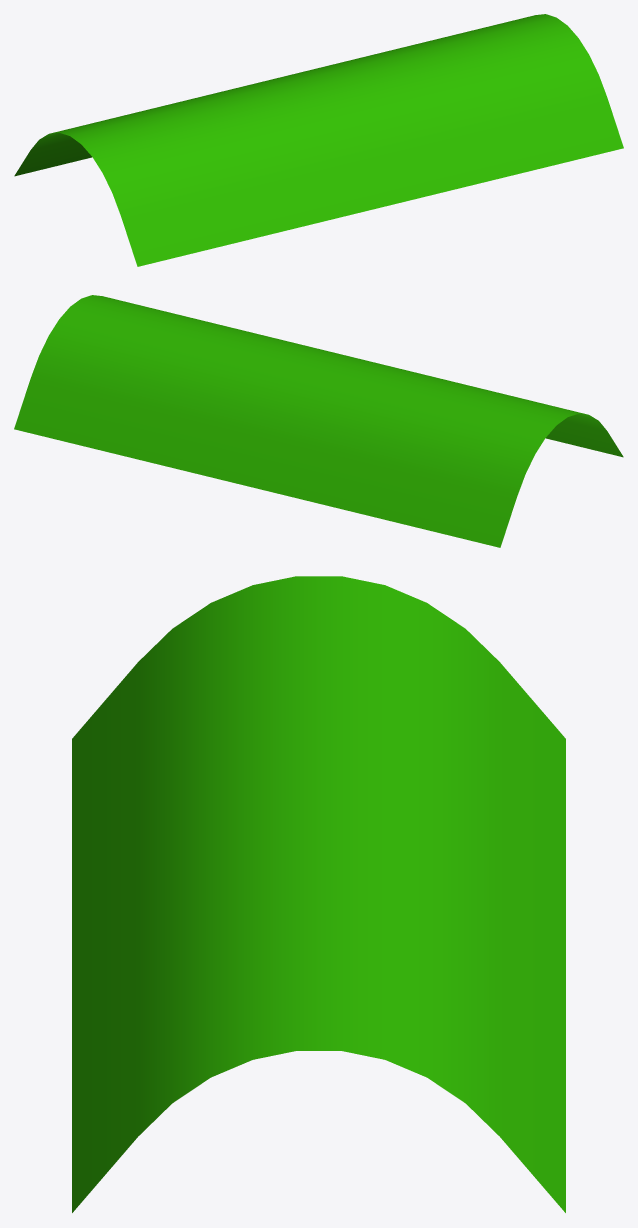
File: Hill_1.fbx
The picture shows the model from 3 angles, top to bottom: view 1: azimuth 30°, elevation 25°; view 2: azimuth 150°, elevation 25°; view 3: azimuth 270°, elevation 25°; orthographic projection. The views are drawn at different scales.
Parts seen in each view (by area): view 1: Hill_1; view 2: Hill_1; view 3: Hill_1.
Part boxes in pixels (x1=…): Hill_1: x1=14, y1=14, x2=623, y2=266; Hill_1: x1=14, y1=295, x2=623, y2=547; Hill_1: x1=72, y1=576, x2=565, y2=1212.
Bounding box in the file's own units: 2500 × 400 × 1100.
